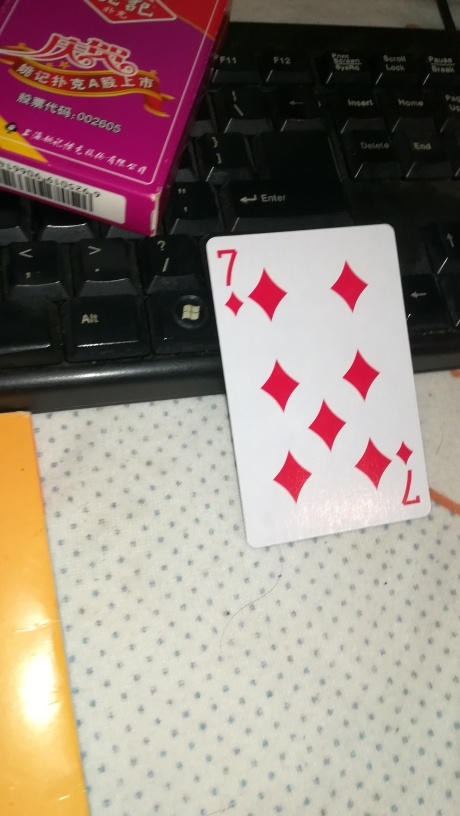fk 7: (204, 220, 439, 549)
